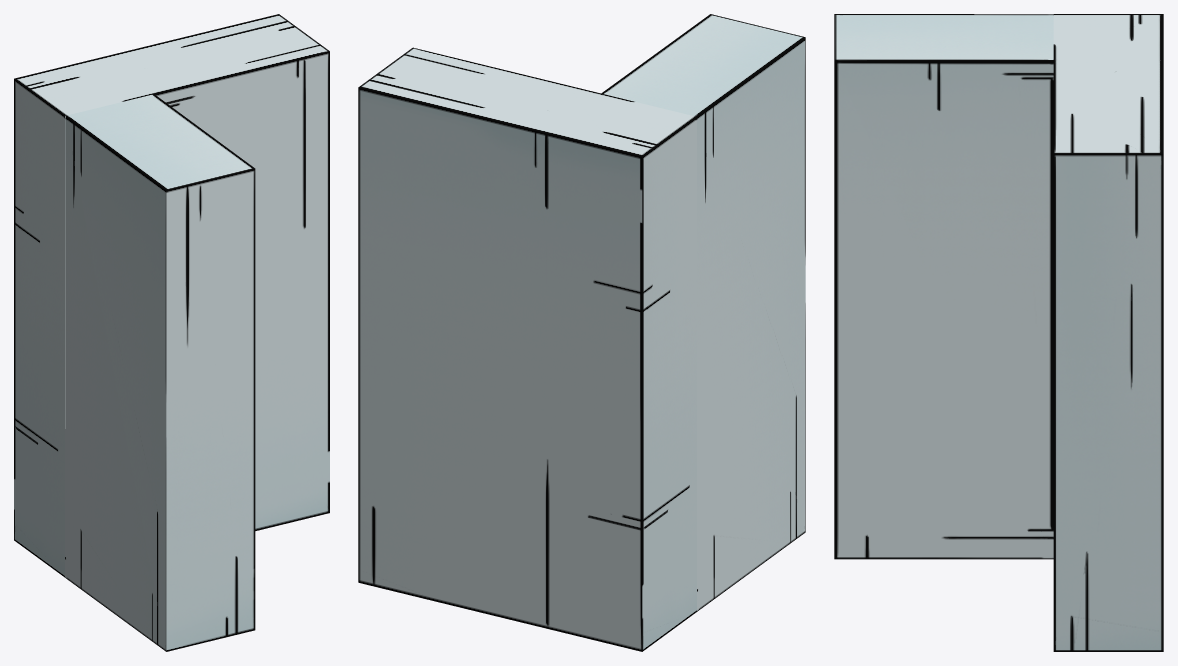
The model's file is cornerwall.fbx.
3 renders of one model, left to right at view 1: azimuth 30°, elevation 25°; view 2: azimuth 150°, elevation 25°; view 3: azimuth 270°, elevation 25°, orthographic. The views are drawn at different scales.
Parts seen in each view (by area): view 1: cornerwall; view 2: cornerwall; view 3: cornerwall.
Part boxes in pixels (x1,y1,x2,y2): cornerwall: [14, 14, 329, 651]; cornerwall: [358, 14, 805, 651]; cornerwall: [834, 14, 1163, 651].
Bounding box in the file's own units: 1.2 × 2 × 1.2.
Materials: 1 (1 with a texture image).
